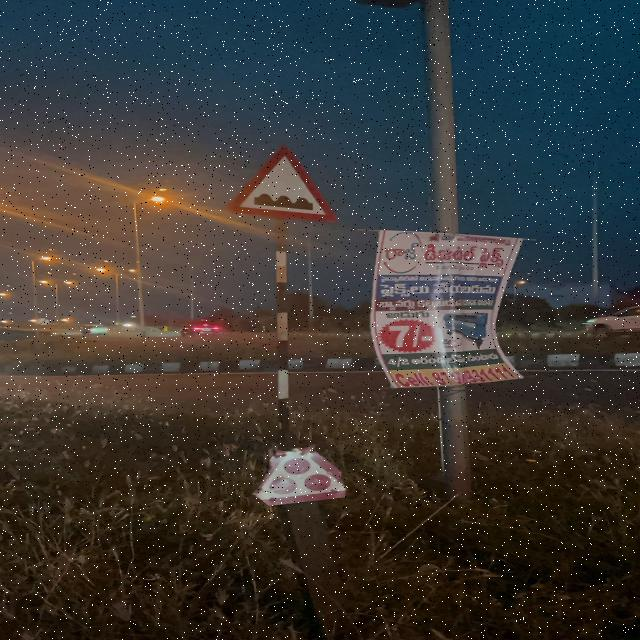Rumble_strip: (232, 149, 338, 227)
